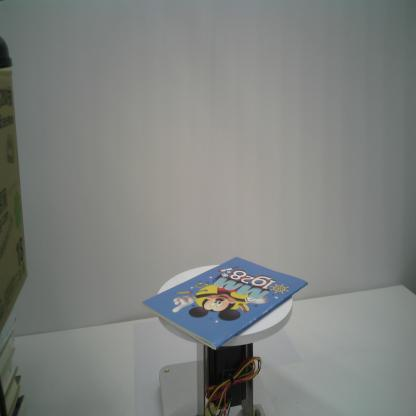Stationery: (142, 256, 308, 351)
